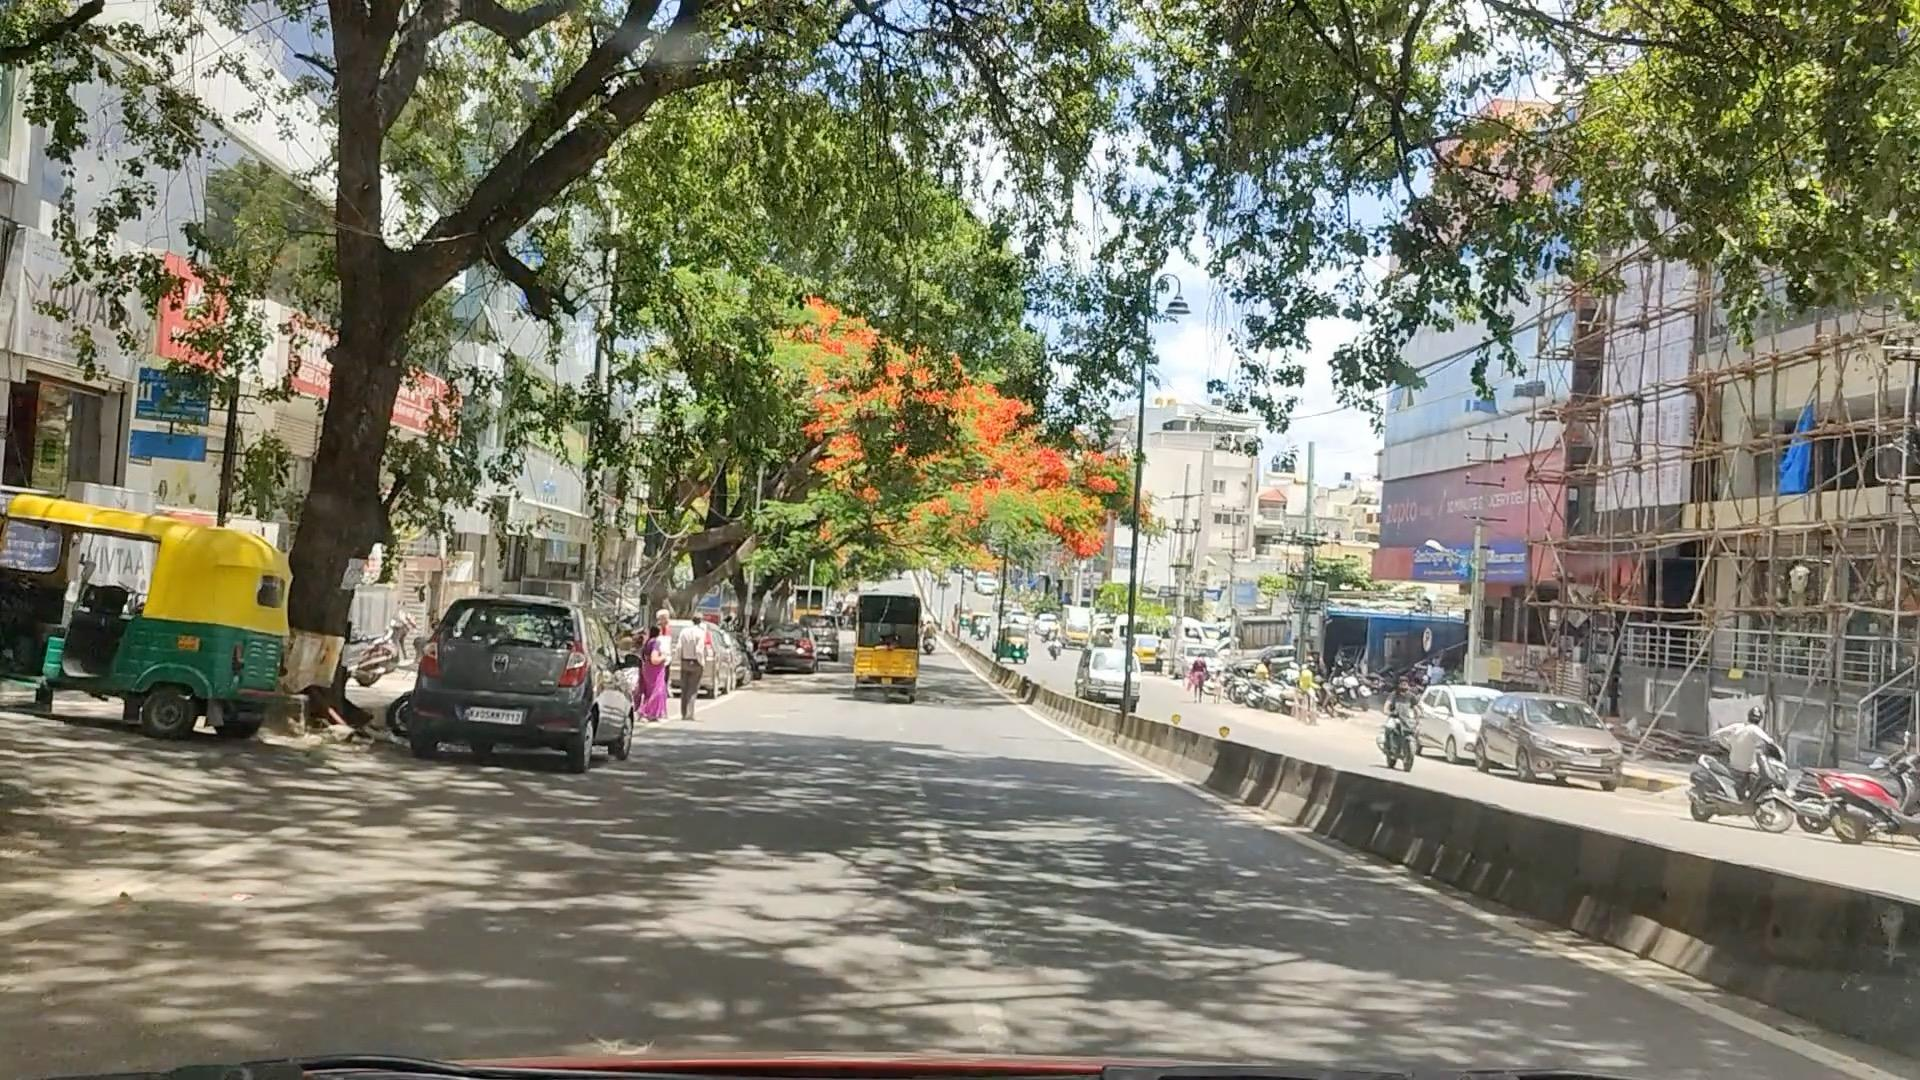HMV: (864, 593, 915, 698)
LMV: (409, 607, 600, 754)
